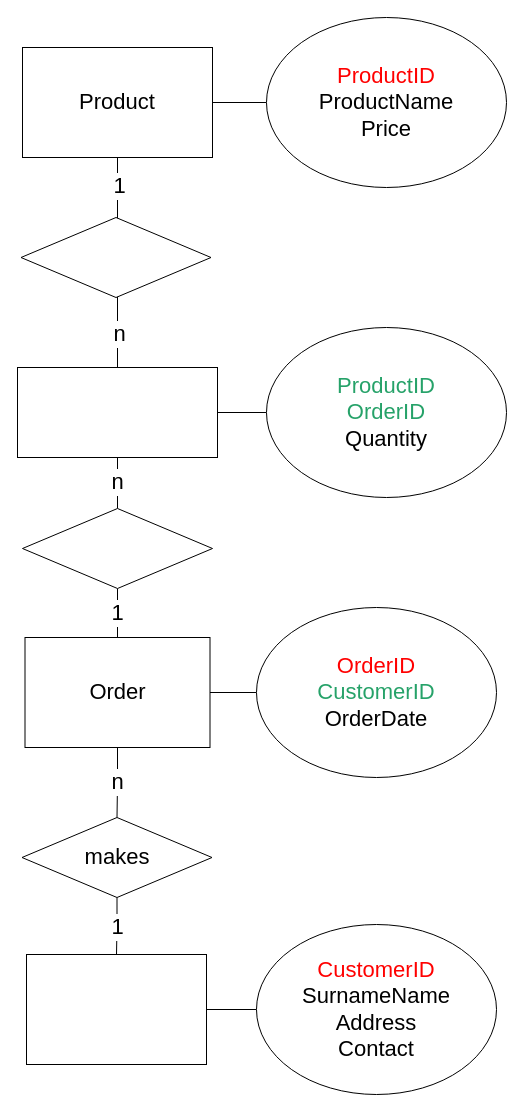
The diagram is 524 pixels wide and 1112 high, and some of its shapes have lost their labels. The centre of each missing label's shape, as x and y in pixels:
contains: (x=117, y=548)
Customer: (x=116, y=1009)
is a part of: (x=115, y=257)
Products in order: (x=117, y=412)
